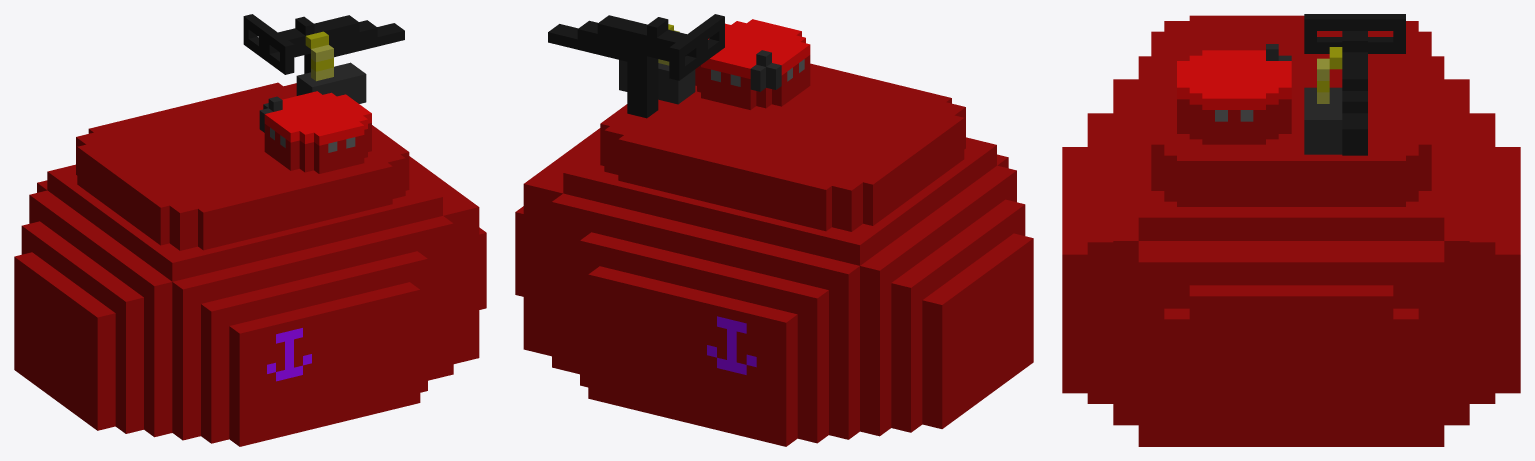
The model's file is TankEnemy-1.obj.
3 renders of one model, left to right at view 1: azimuth 30°, elevation 25°; view 2: azimuth 150°, elevation 25°; view 3: azimuth 270°, elevation 25°, orthographic. The views are drawn at different scales.
Bounding box in the file's own units: 4.2 × 3.1 × 3.6.
Materials: 1 (1 with a texture image).
